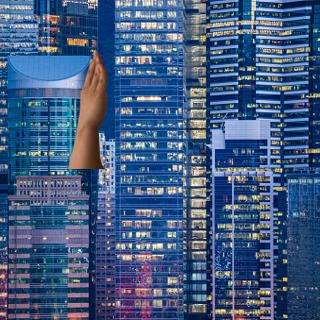RIGHT: (69, 48, 114, 135)
